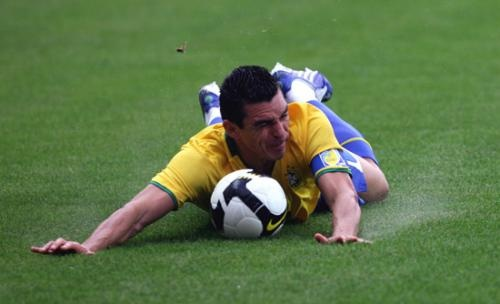falling: (41, 41, 350, 263)
